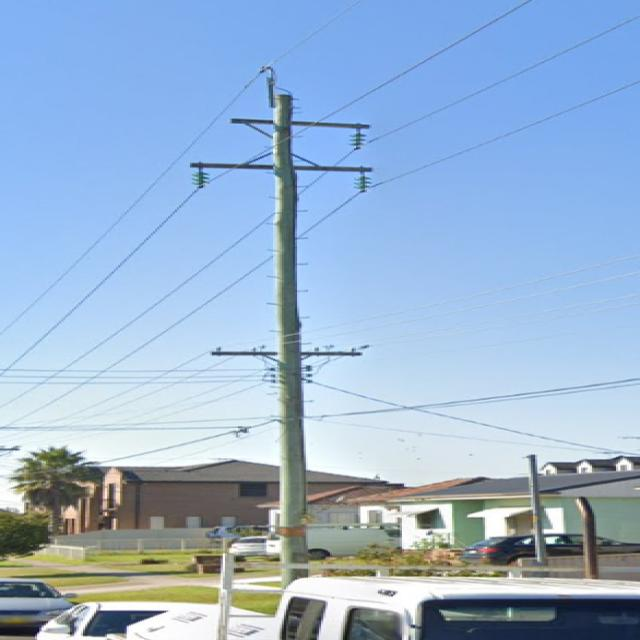HV-transmission: (186, 66, 376, 194)
crossarm: (186, 160, 367, 172), (227, 117, 365, 128), (208, 349, 360, 356)
timber-pole: (266, 100, 304, 577)
